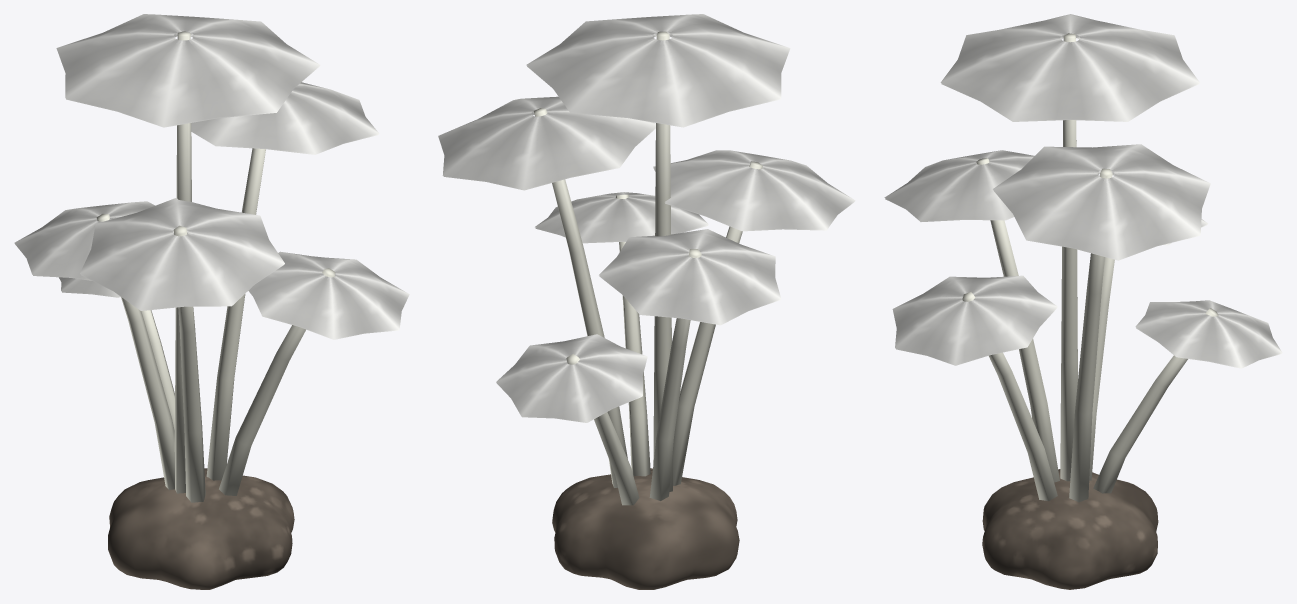
Rendered from LeavedSmallB.fbx.
The picture shows the model from 3 angles, left to right: view 1: azimuth 30°, elevation 25°; view 2: azimuth 150°, elevation 25°; view 3: azimuth 270°, elevation 25°; orthographic projection. The views are drawn at different scales.
Parts seen in each view (by area): view 1: LeavedSmallB; view 2: LeavedSmallB; view 3: LeavedSmallB.
Part boxes in pixels (left/top/right/bottom): LeavedSmallB: left=14, top=14, right=409, bottom=589; LeavedSmallB: left=438, top=14, right=855, bottom=589; LeavedSmallB: left=884, top=14, right=1282, bottom=589.
Bounding box in the file's own units: 0.6685 × 1 × 0.708.
Materials: 2 (2 with a texture image).
